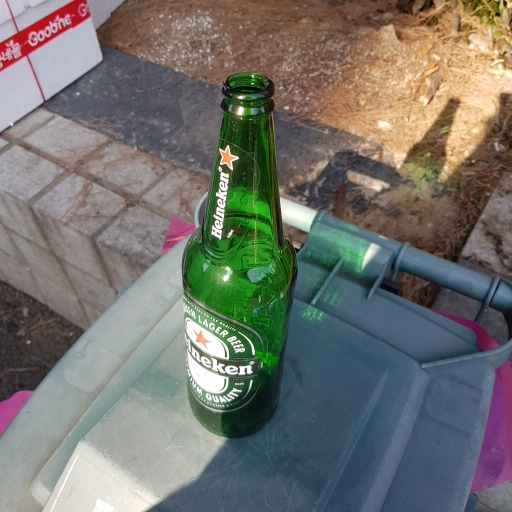Glass_1: (176, 70, 302, 438)
